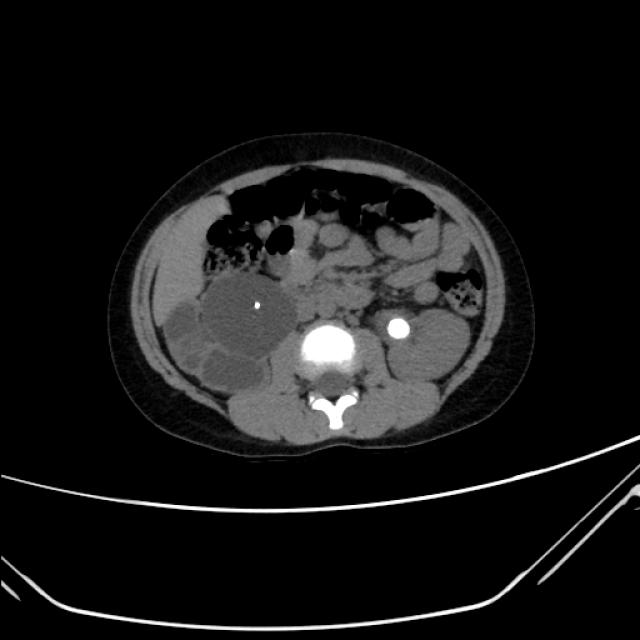kidney: (202, 267, 299, 359), (370, 302, 473, 385)
stone: (385, 316, 412, 343), (252, 299, 262, 311)
